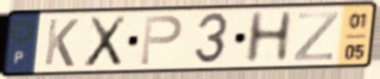3: (191, 10, 231, 68)
H: (242, 9, 297, 66)
K: (42, 17, 81, 69)
P: (138, 14, 185, 67)
X: (82, 14, 129, 70)
Z: (291, 10, 342, 63)
